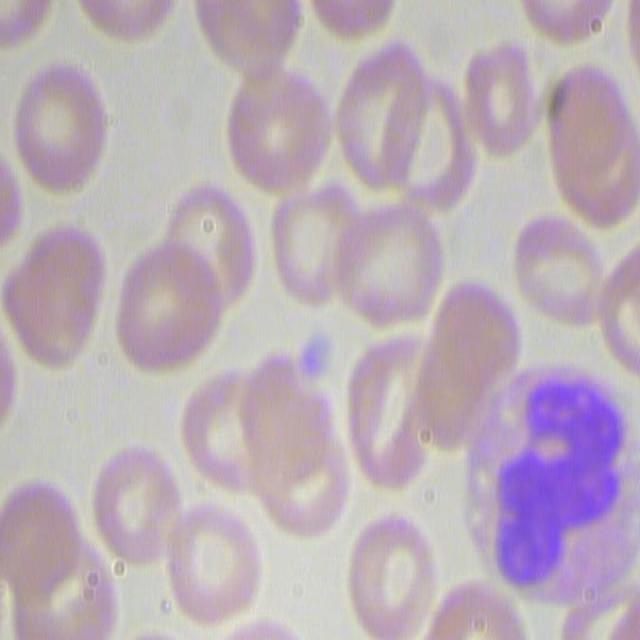RBC: (330, 30, 476, 229), (250, 358, 352, 539), (318, 195, 444, 338), (541, 58, 639, 241), (410, 278, 520, 437), (0, 482, 111, 639), (0, 214, 104, 373), (110, 241, 223, 379), (342, 329, 432, 497), (222, 70, 337, 200), (177, 364, 280, 504), (11, 65, 112, 202), (343, 502, 439, 640), (512, 210, 614, 338), (92, 438, 183, 575), (162, 173, 259, 300), (164, 504, 264, 627), (450, 38, 546, 160), (265, 188, 356, 307), (188, 0, 304, 74), (424, 578, 536, 640), (598, 242, 640, 390), (70, 0, 183, 47), (515, 0, 621, 49), (7, 5, 75, 74), (302, 0, 403, 44)
WBC: (457, 346, 638, 608)
